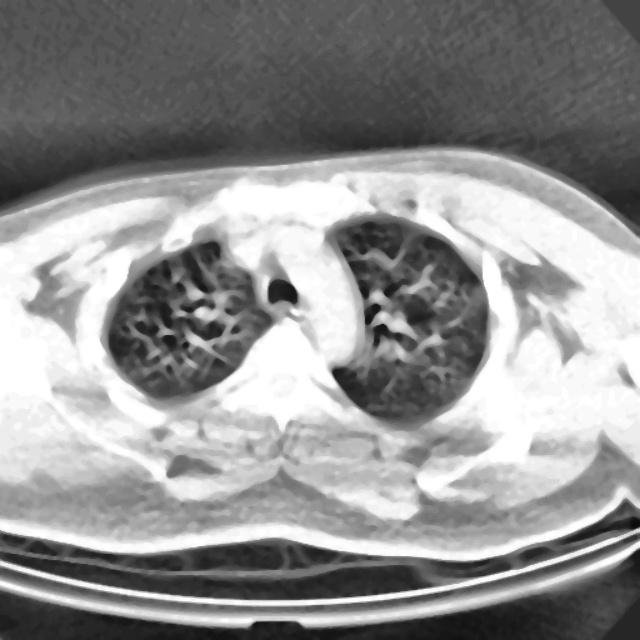covid: (0, 145, 639, 564)
